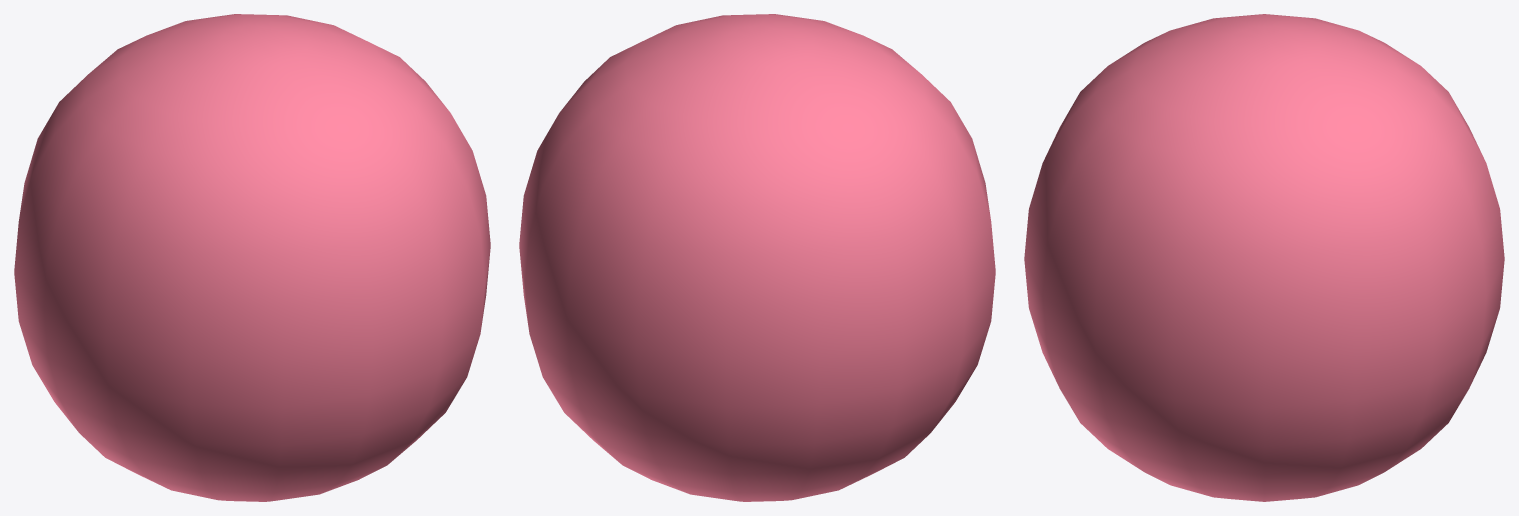
The model's file is Ice Cream Pink.fbx.
3 renders of one model, left to right at view 1: azimuth 30°, elevation 25°; view 2: azimuth 150°, elevation 25°; view 3: azimuth 270°, elevation 25°, orthographic.
Parts seen in each view (by area): view 1: Ice Cream Pink; view 2: Ice Cream Pink; view 3: Ice Cream Pink.
Part boxes in pixels (box(x1,y1,x2,y2)): Ice Cream Pink: box(14, 14, 490, 501); Ice Cream Pink: box(519, 14, 995, 501); Ice Cream Pink: box(1024, 14, 1504, 501).
Bounding box in the file's own units: 0.4671 × 0.4738 × 0.4671.
